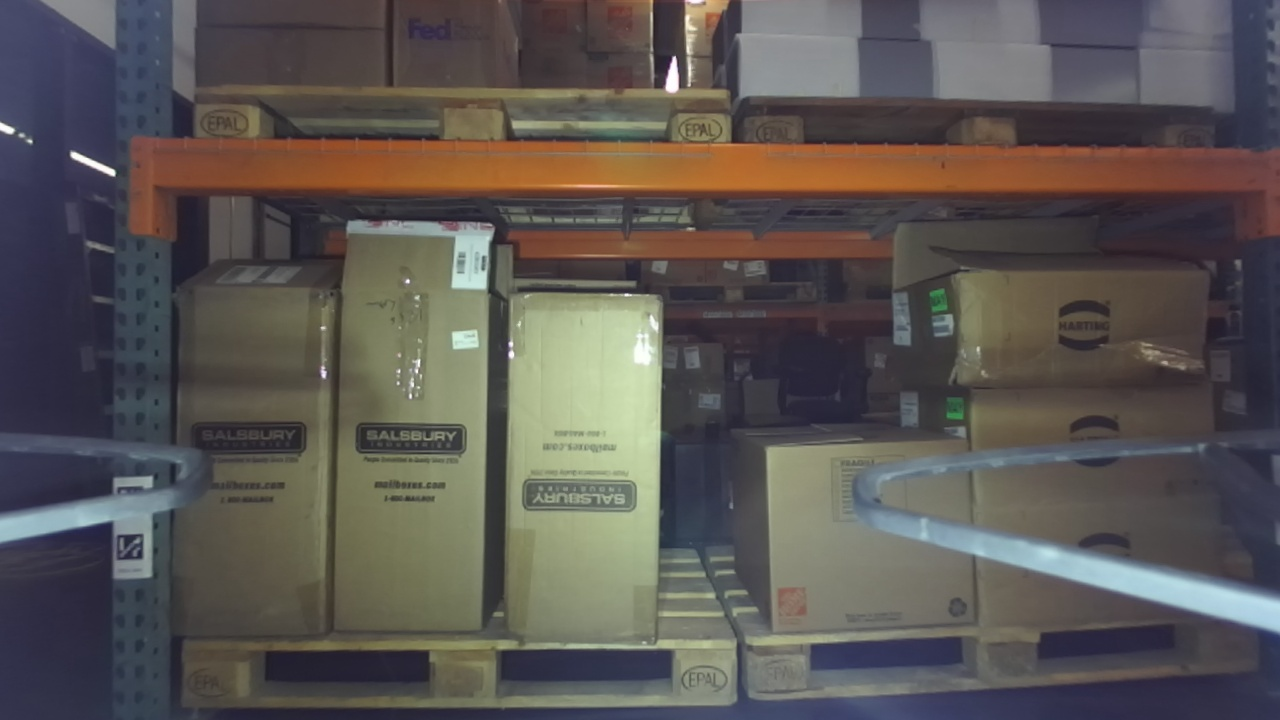box: (330, 204, 498, 652), (500, 275, 685, 641), (719, 400, 982, 639), (172, 251, 330, 648), (874, 206, 1220, 374), (962, 484, 1250, 629), (941, 378, 1230, 502), (183, 13, 401, 104), (374, 1, 519, 102)
